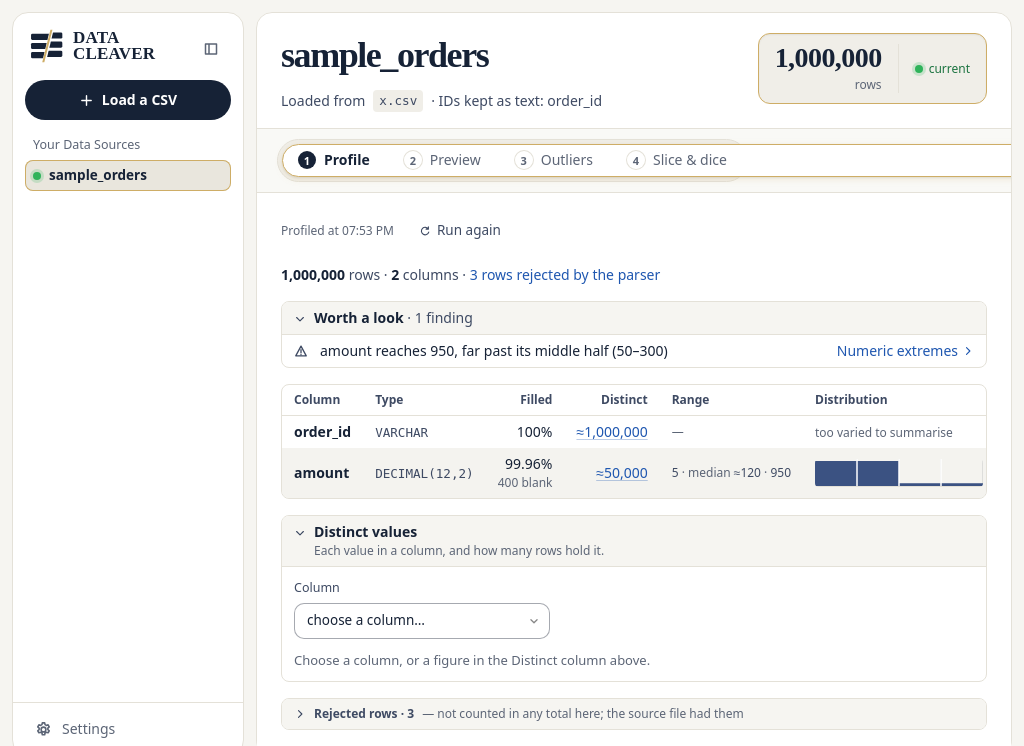
The EDA path › says when a distinct-values query is refused, and can run it anyway
Click the button named "list the values of amount" at (622, 473), box [596, 463, 648, 483]
(page scrolled)
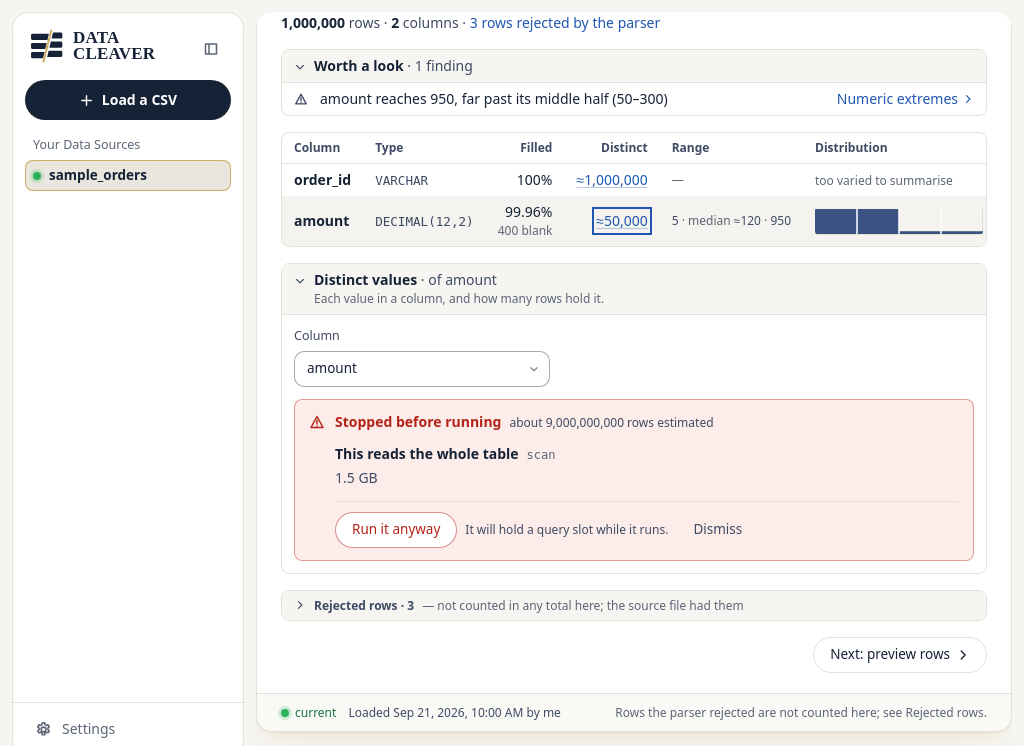
Expected: the text "This reads the whole table" is shown, [335, 444, 519, 464]
Click the button "Run it anyway" at (396, 530), box [335, 512, 457, 548]
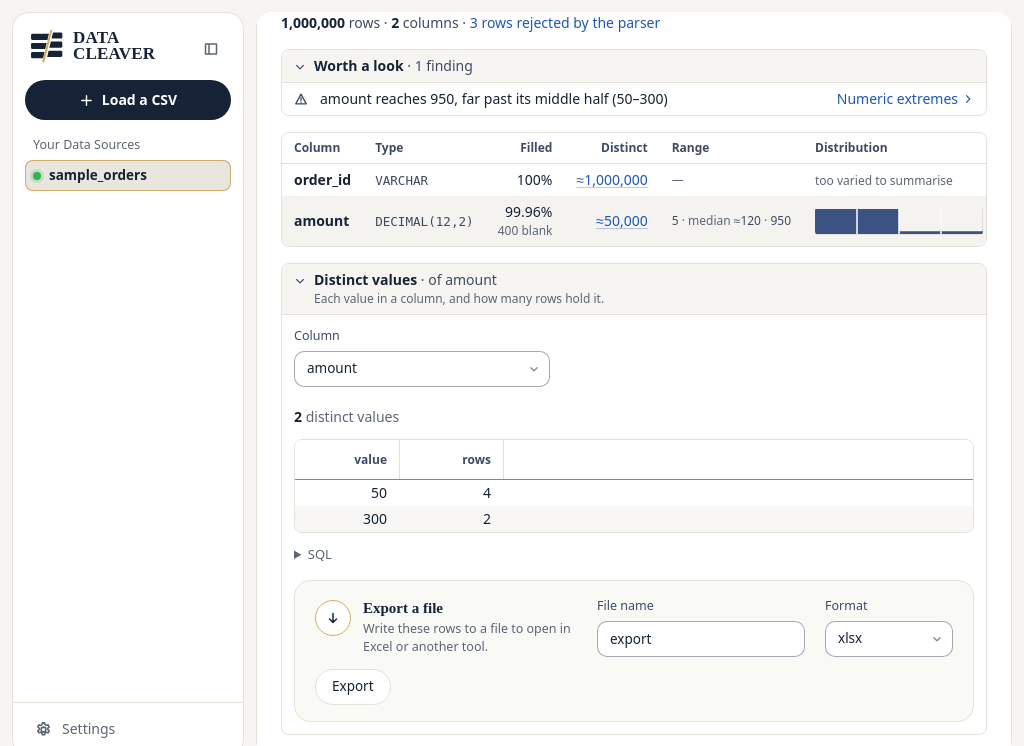
Expected: the table "value rows 50 4 300 2" is shown, [294, 439, 974, 533]
